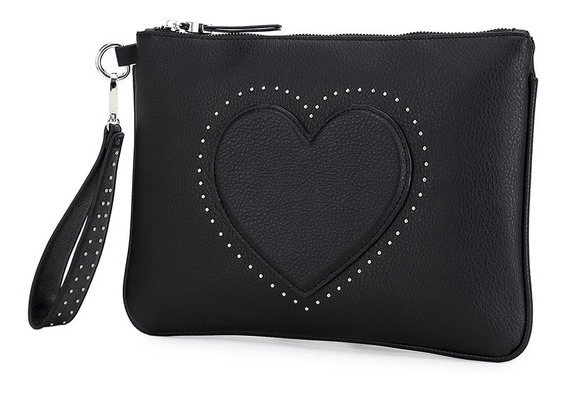cartera: (28, 21, 540, 363)
